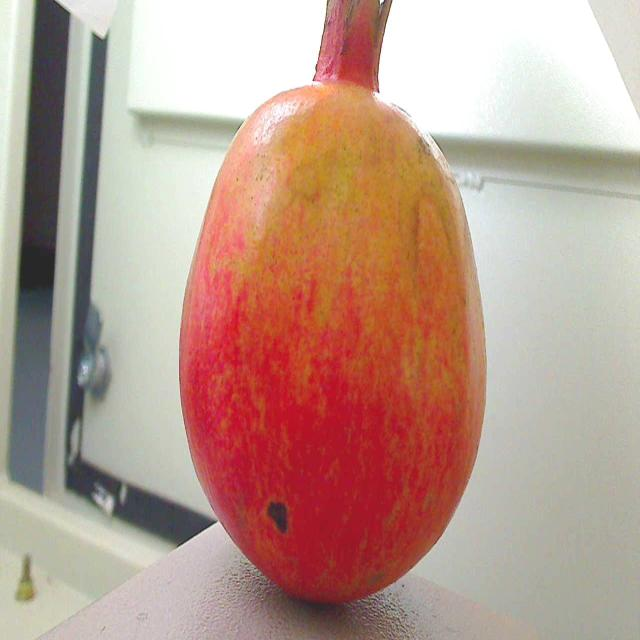pomegranate: (168, 0, 496, 640)
